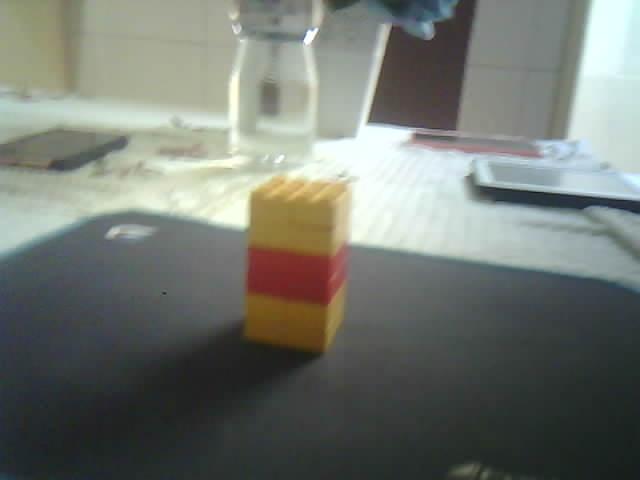lego: (242, 174, 352, 354)
